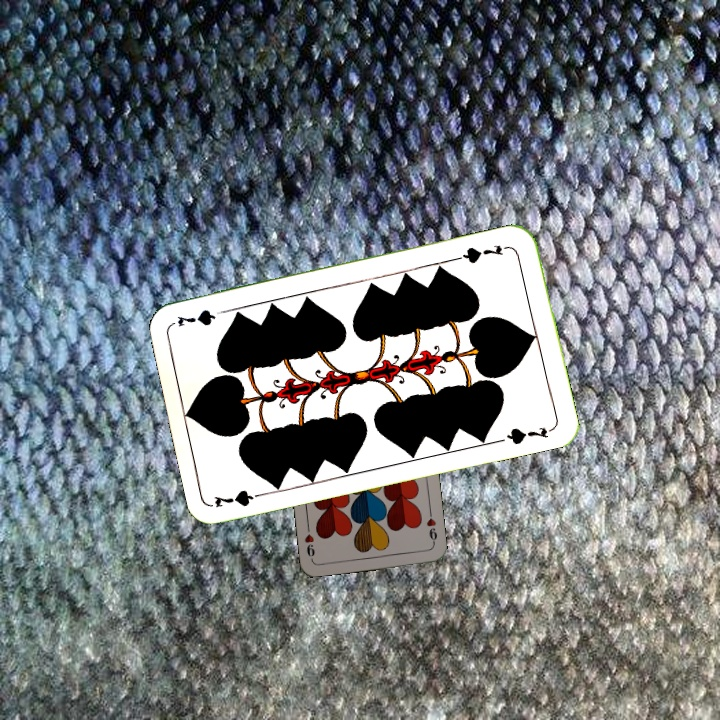G7: (210, 485, 271, 511), (454, 240, 513, 266)
H9: (423, 507, 440, 547)
